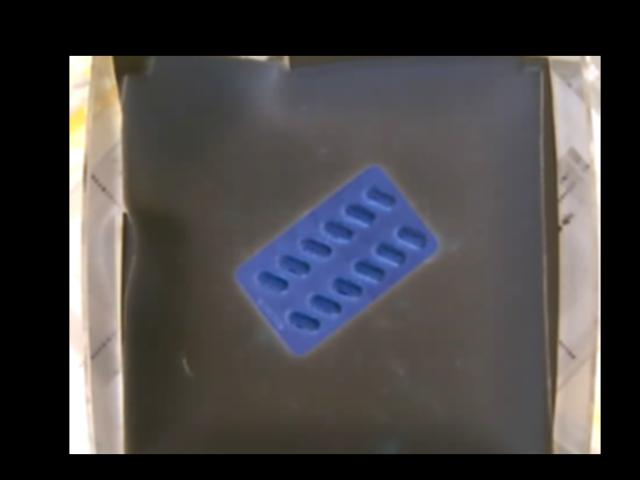Medicine: (235, 164, 437, 354)
